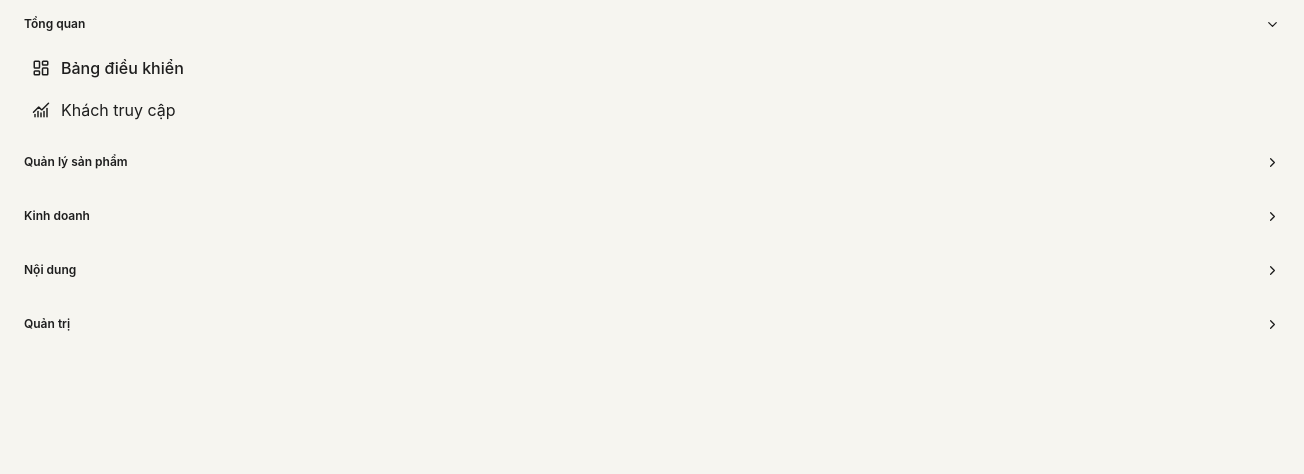
Test: handles blocked preference reads and writes
This screenshot has width=1304, height=474.
Click the button "Kinh doanh" at (57, 216), box [12, 194, 1292, 238]
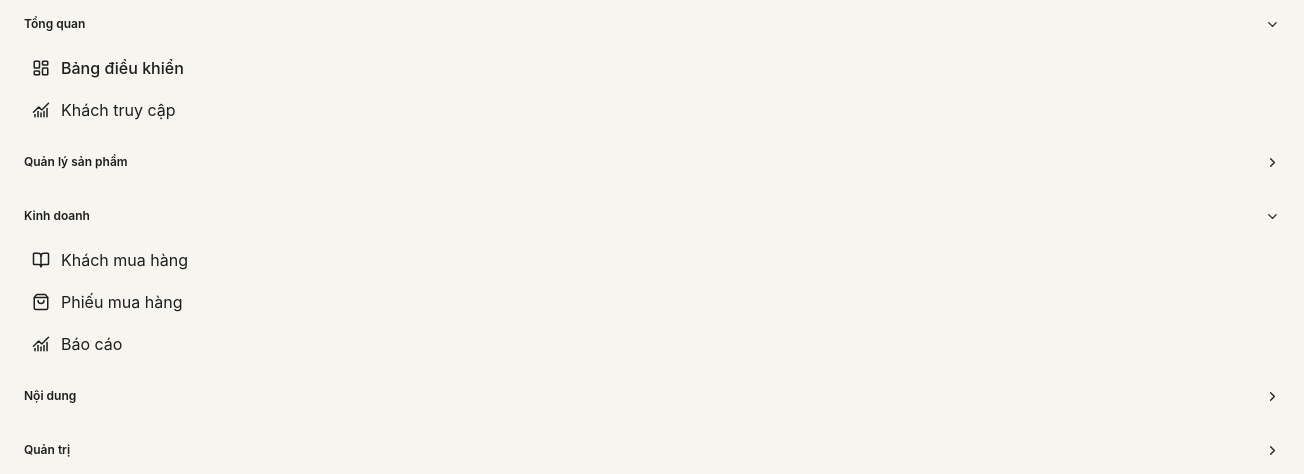
Check: the button "Kinh doanh" is expanded, box [12, 194, 1292, 238]
